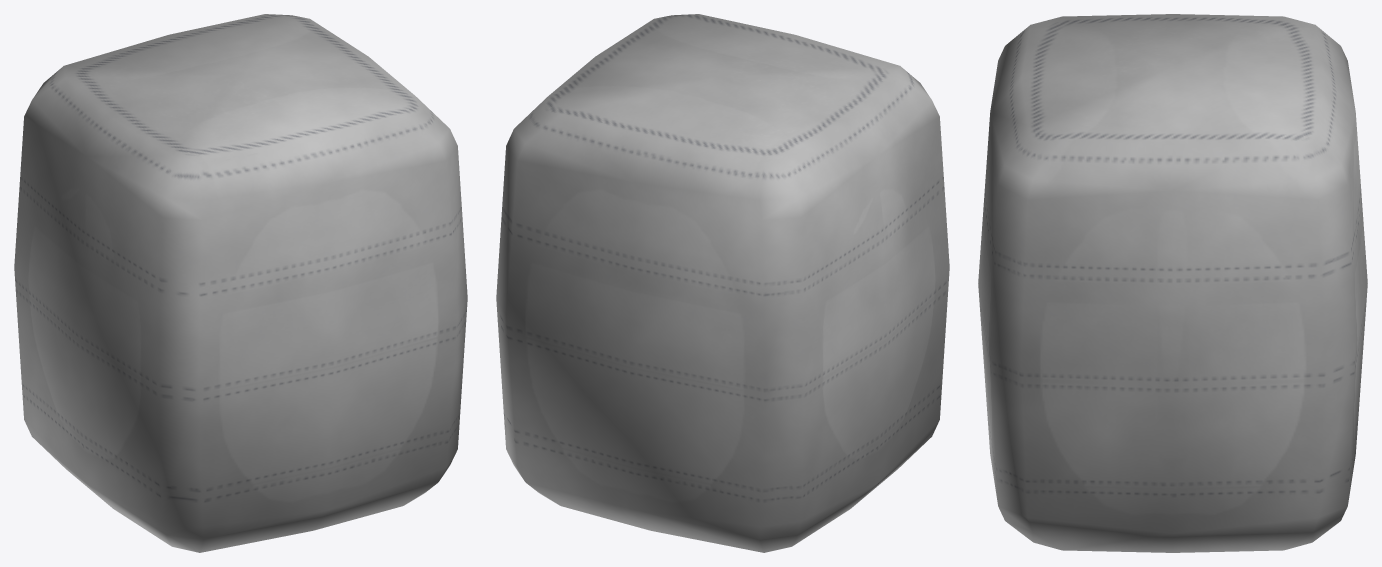
File: LeftLowerLeg_C2.fbx
3 views of the same model, side by side, from view 1: azimuth 30°, elevation 25°; view 2: azimuth 150°, elevation 25°; view 3: azimuth 270°, elevation 25° (orthographic). The views are drawn at different scales.
Visible parts, largest first — view 1: Civ_Pollera_LeftLowerLeg_C2; view 2: Civ_Pollera_LeftLowerLeg_C2; view 3: Civ_Pollera_LeftLowerLeg_C2.
Part boxes in pixels (x1,y1,x2,y2): Civ_Pollera_LeftLowerLeg_C2: [14, 14, 467, 552]; Civ_Pollera_LeftLowerLeg_C2: [496, 14, 949, 552]; Civ_Pollera_LeftLowerLeg_C2: [978, 14, 1367, 552].
Size of the model in its own units: 1.08 by 1.3 by 1.06.
